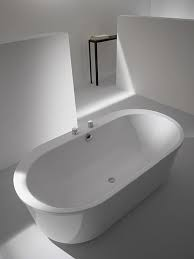bathub: (16, 104, 179, 248)
